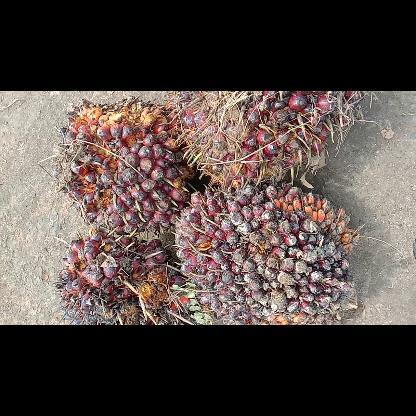Kurang masak: (169, 180, 362, 324), (161, 91, 369, 189)
TBS masak: (52, 96, 196, 238), (53, 228, 197, 324)
